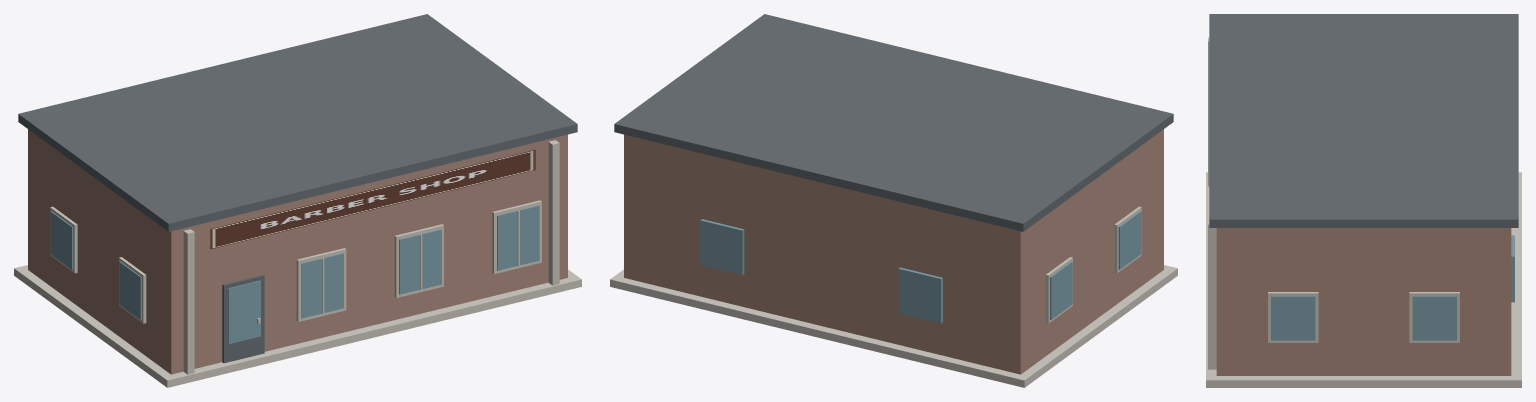
The model's file is barber_shop.glb.
3 views of the same model, side by side, from view 1: azimuth 30°, elevation 25°; view 2: azimuth 150°, elevation 25°; view 3: azimuth 270°, elevation 25° (orthographic). The views are drawn at different scales.
Visible parts, largest first — view 1: world; view 2: world; view 3: world.
Part boxes in pixels (<box>): world: <box>14,14,581,387</box>; world: <box>610,14,1177,387</box>; world: <box>1206,14,1521,387</box>.
Size of the model in its own units: 11.7 by 4.38 by 7.5.
2 materials, 1 textured.
